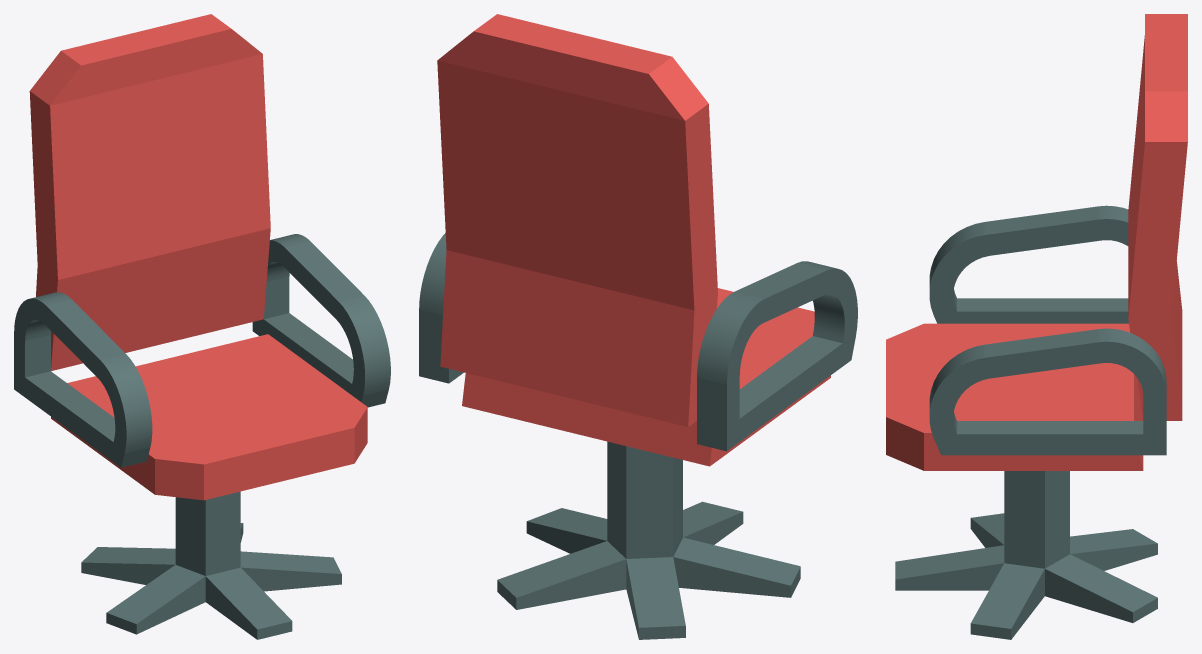
The model's file is Chair Desk.glb.
3 renders of one model, left to right at view 1: azimuth 30°, elevation 25°; view 2: azimuth 150°, elevation 25°; view 3: azimuth 270°, elevation 25°, orthographic. The views are drawn at different scales.
Visible parts, largest first — view 1: chair, chairDesk(Clone); view 2: chair, chairDesk(Clone); view 3: chair, chairDesk(Clone).
Boxes of the visible parts, left/top/right/bottom form: chair: left=14, top=14, right=390, bottom=500; chairDesk(Clone): left=81, top=491, right=341, bottom=639; chair: left=419, top=14, right=857, bottom=466; chairDesk(Clone): left=497, top=441, right=800, bottom=639; chair: left=886, top=14, right=1187, bottom=470; chairDesk(Clone): left=895, top=471, right=1157, bottom=639.
Bounding box in the file's own units: 0.335 × 0.6076 × 0.3143.
